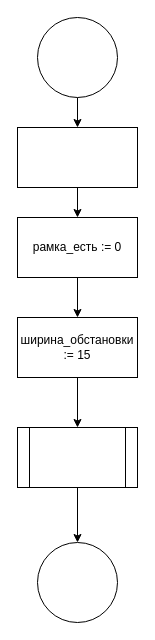
The diagram is 155 pixels wide and 640 high, and some of its shapes have lost their labels. The centre of each missing label's shape, as x and y in pixels:
а := 1: the point at 77,157
пока рамка_есть = 0: the point at 77,457
